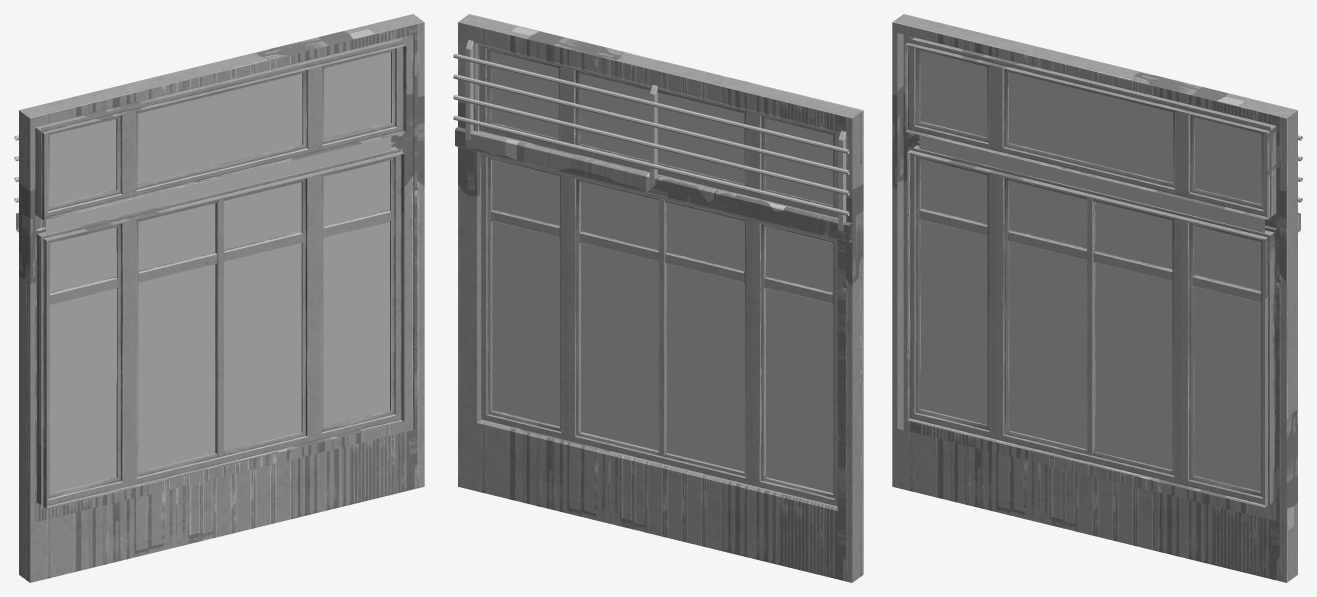
Rendered from SM_Building03_GroundWindow2R.fbx.
3 renders of one model, left to right at view 1: azimuth 30°, elevation 25°; view 2: azimuth 150°, elevation 25°; view 3: azimuth 330°, elevation 25°, orthographic.
Visible parts, largest first — view 1: SM_Building03_GroundWindow2R_LOD0; view 2: SM_Building03_GroundWindow2R_LOD0; view 3: SM_Building03_GroundWindow2R_LOD0.
Part boxes in pixels (bbox=[...]): SM_Building03_GroundWindow2R_LOD0: bbox=[14, 14, 424, 582]; SM_Building03_GroundWindow2R_LOD0: bbox=[453, 14, 863, 582]; SM_Building03_GroundWindow2R_LOD0: bbox=[892, 14, 1302, 582].
Size of the model in its own units: 400 by 29.34 by 450.
